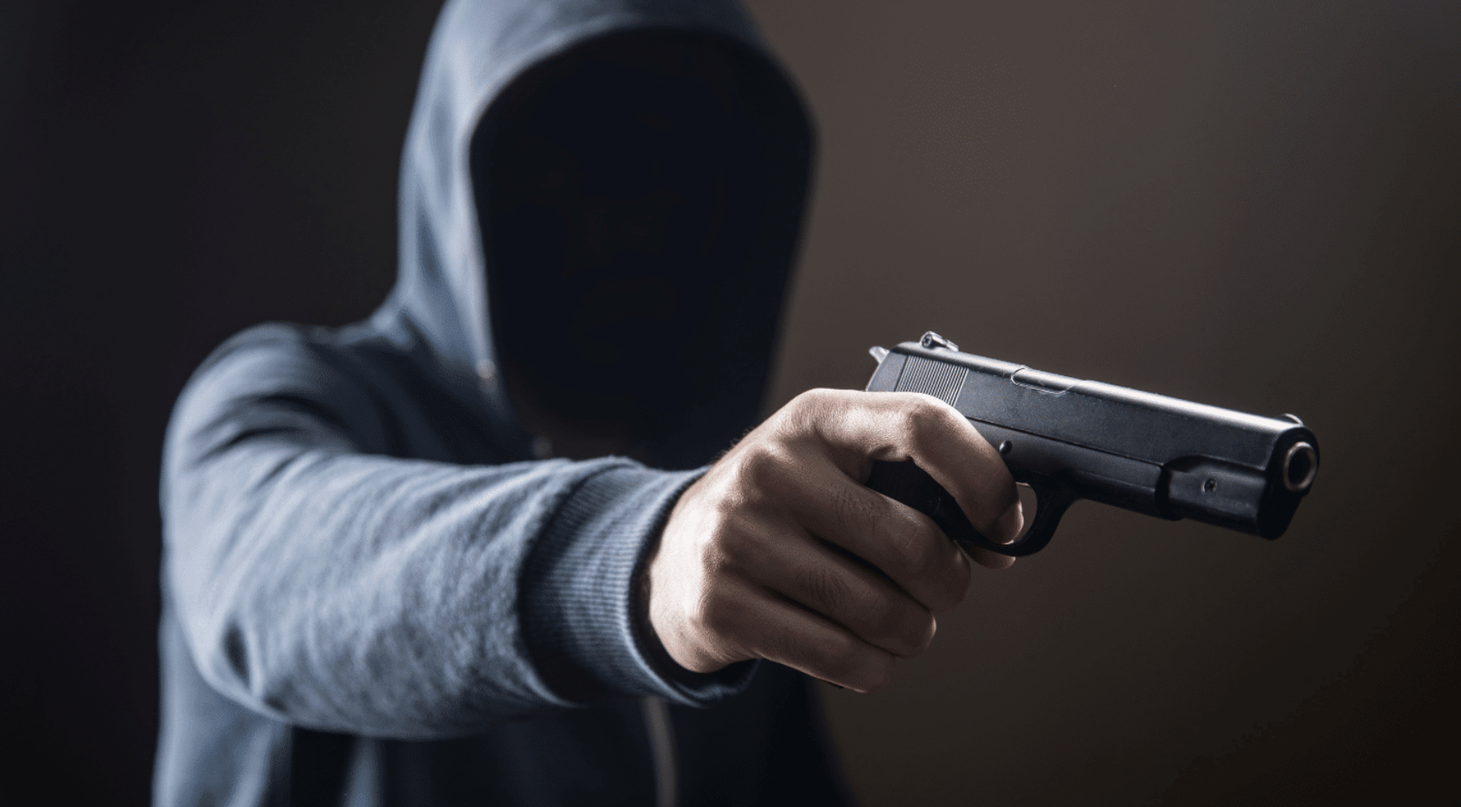gun_004: (842, 315, 1332, 572)
